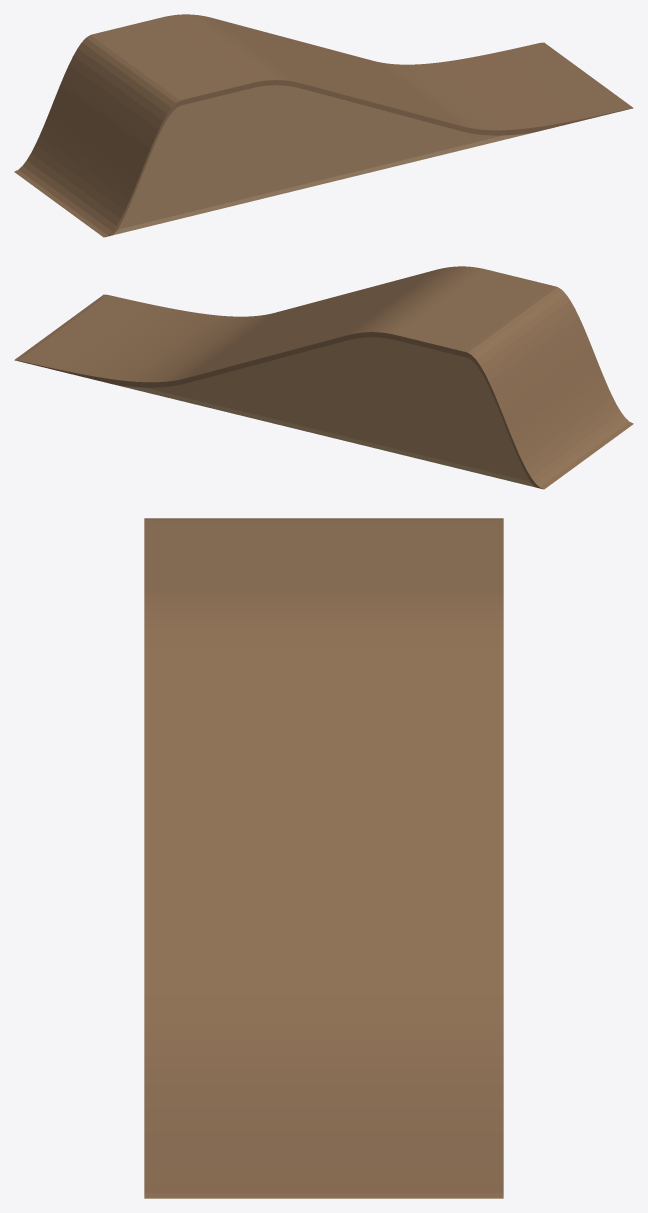
The model's file is DR_Prop_JumpLanding.fbx.
The picture shows the model from 3 angles, top to bottom: view 1: azimuth 30°, elevation 25°; view 2: azimuth 150°, elevation 25°; view 3: azimuth 270°, elevation 25°; orthographic projection. The views are drawn at different scales.
Parts seen in each view (by area): view 1: DR_Prop_JumpLanding; view 2: DR_Prop_JumpLanding; view 3: DR_Prop_JumpLanding.
Boxes of the visible parts, left/top/right/bottom form: DR_Prop_JumpLanding: left=14, top=14, right=633, bottom=237; DR_Prop_JumpLanding: left=14, top=266, right=633, bottom=489; DR_Prop_JumpLanding: left=144, top=518, right=503, bottom=1198.
Bounding box in the file's own units: 3.75 × 0.8 × 1.1.
